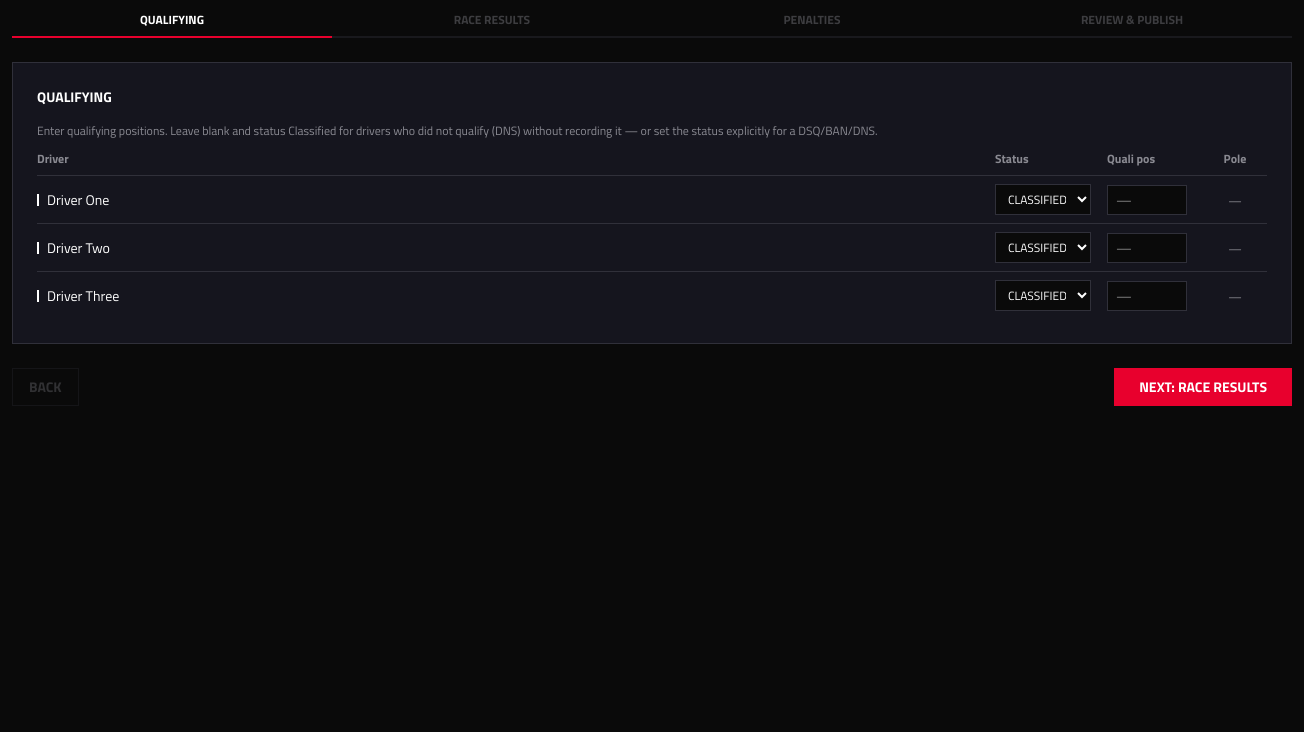
Test: ResultStepper fill sequential positions (S13-T2) › numbers classified rows 1..N in display order and leaves DNF rows blank
Click the button "Next: Race Results".
click(1203, 387)  # box 1114,368 -> 1292,406
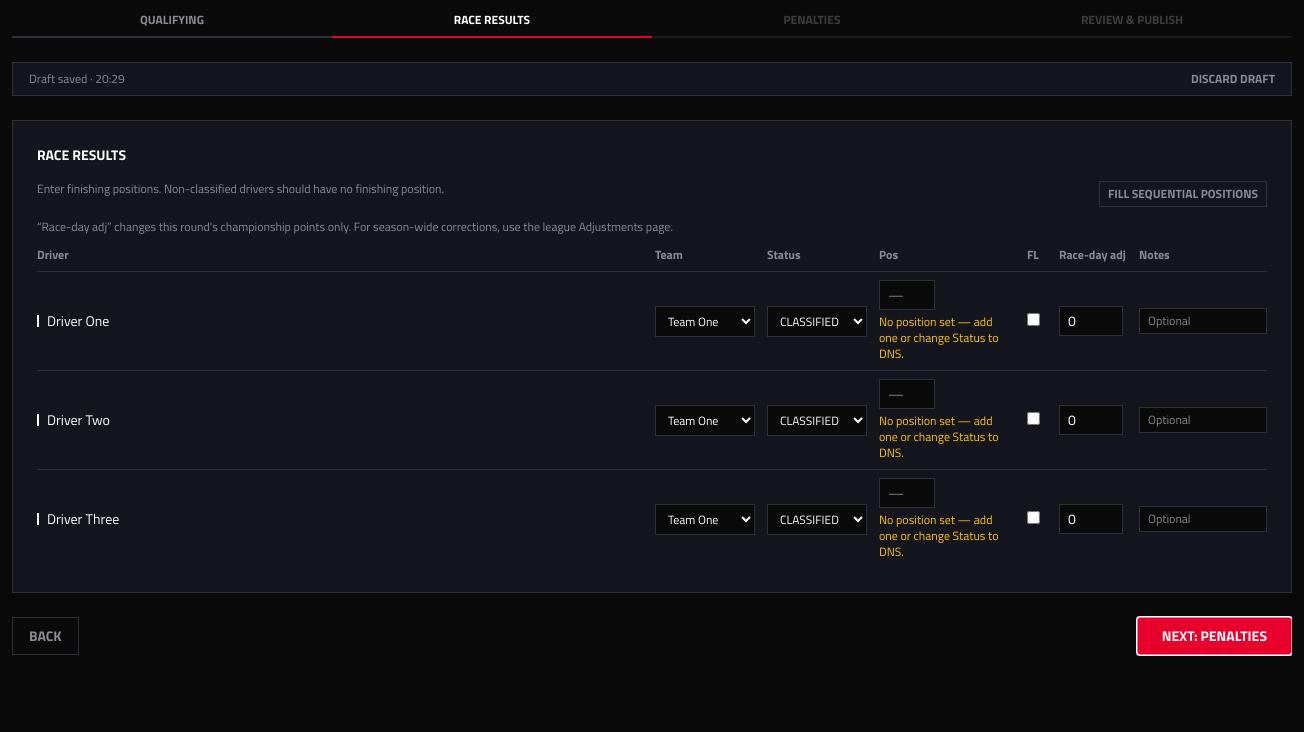
Select "DNF" in the dropdown named "Status for Driver Three" at {"x": 817, "y": 519}, box 767,504 -> 867,534
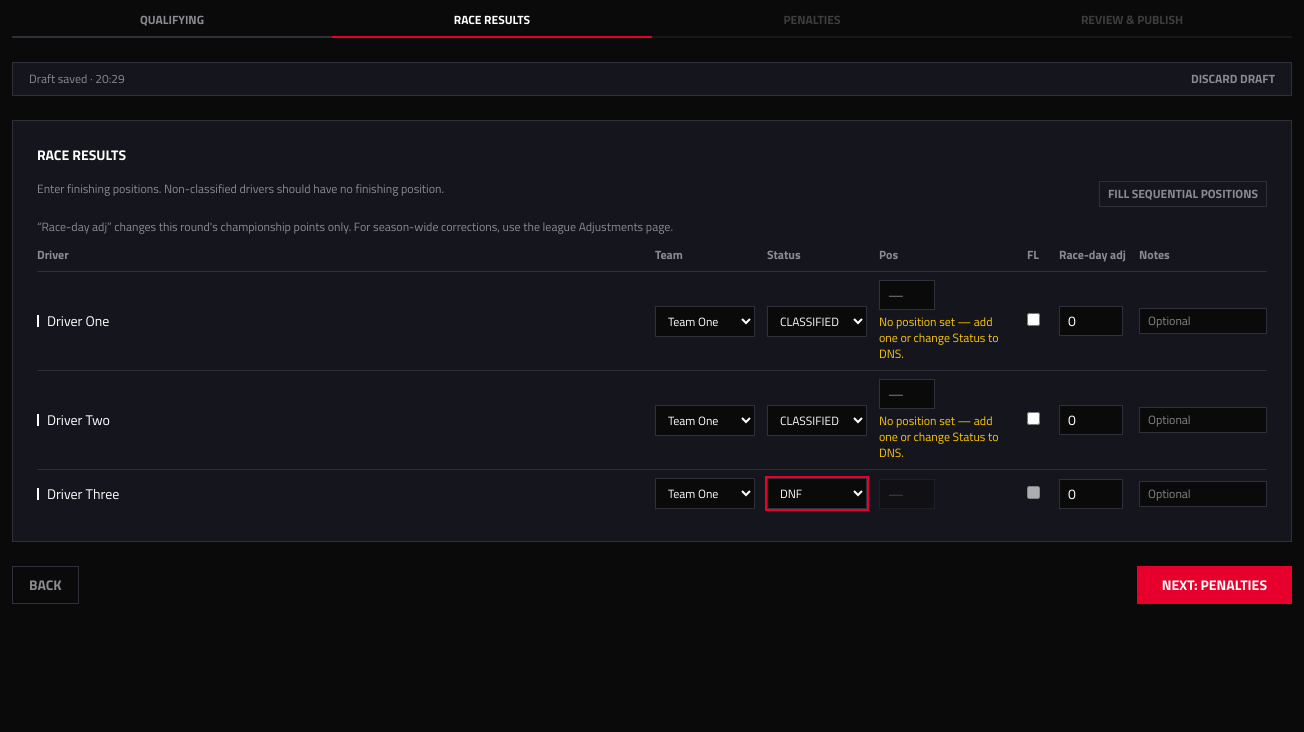
Click the button "Fill sequential positions".
click(1183, 194)  # box 1099,181 -> 1267,207
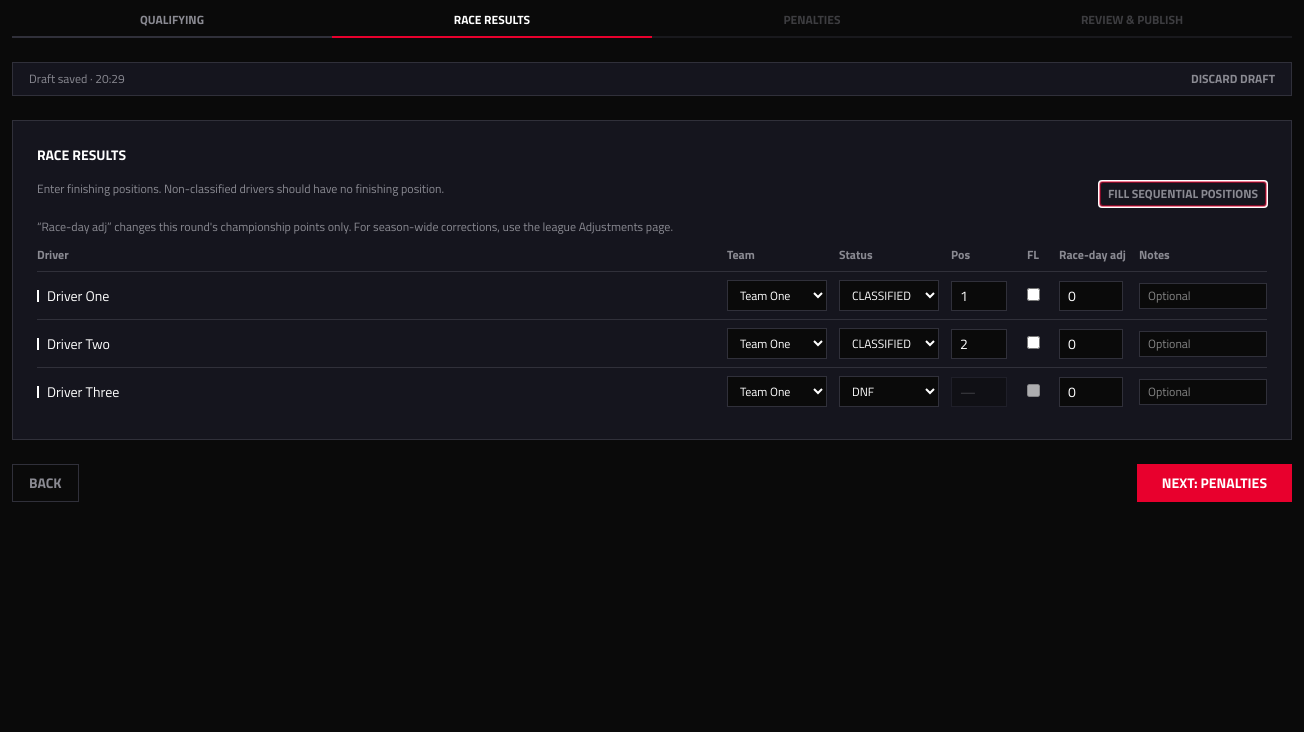
Expected: the number field named "Finishing position for Driver One" holds "1", 951,280 -> 1007,310
Result: the number field named "Finishing position for Driver Three" is not empty at 951,376 -> 1007,406
Result: the number field named "Finishing position for Driver Two" holds "2" at 951,328 -> 1007,358
